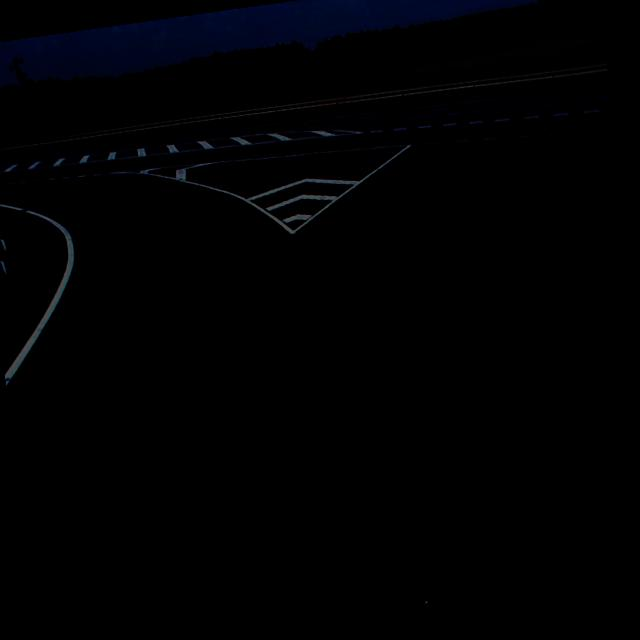road: (0, 86, 640, 640)
